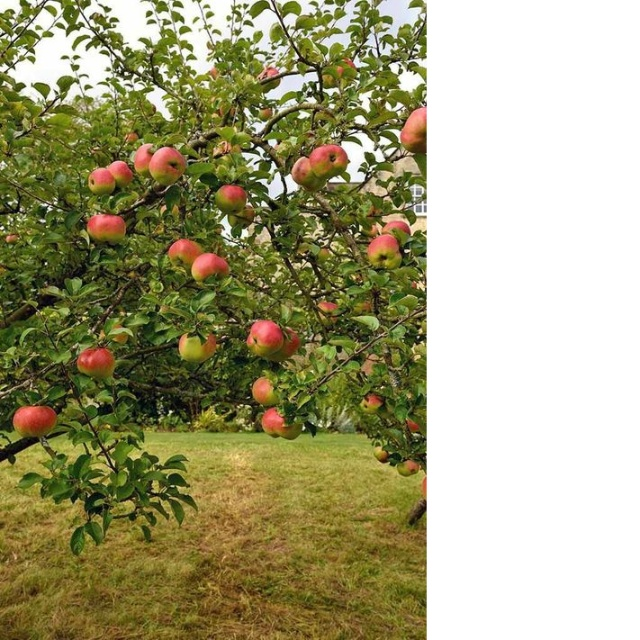sau_rieng: (5, 397, 68, 442), (249, 403, 312, 443), (142, 141, 189, 193), (310, 123, 347, 182), (79, 153, 122, 202), (247, 312, 288, 363), (73, 339, 123, 380), (355, 230, 401, 271), (80, 212, 135, 243), (190, 255, 233, 292), (249, 373, 294, 407), (166, 232, 200, 269)
